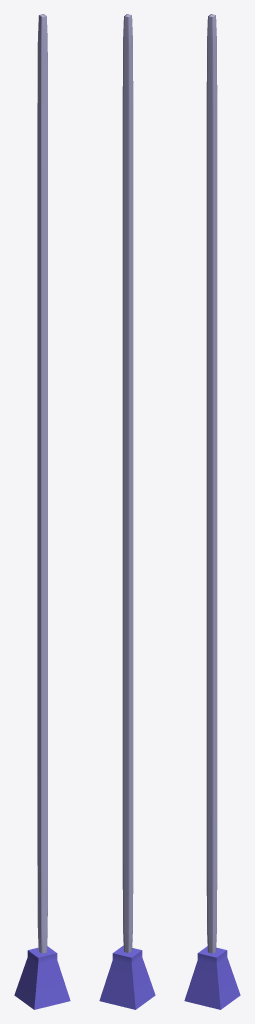
The model's file is WindowCurtainStringModel.fbx.
The picture shows the model from 3 angles, left to right: view 1: azimuth 30°, elevation 25°; view 2: azimuth 150°, elevation 25°; view 3: azimuth 330°, elevation 25°; orthographic projection.
Parts seen in each view (by area): view 1: pCube1, pCube2; view 2: pCube1, pCube2; view 3: pCube1, pCube2.
Boxes of the visible parts, x1=… form: pCube1: x1=37, y1=14, x2=47, y2=953; pCube2: x1=14, y1=946, x2=70, y2=1009; pCube1: x1=122, y1=14, x2=133, y2=952; pCube2: x1=99, y1=945, x2=155, y2=1009; pCube1: x1=206, y1=14, x2=217, y2=953; pCube2: x1=184, y1=946, x2=240, y2=1009.
Size of the model in its own units: 0.1707 by 4.4 by 0.162.
